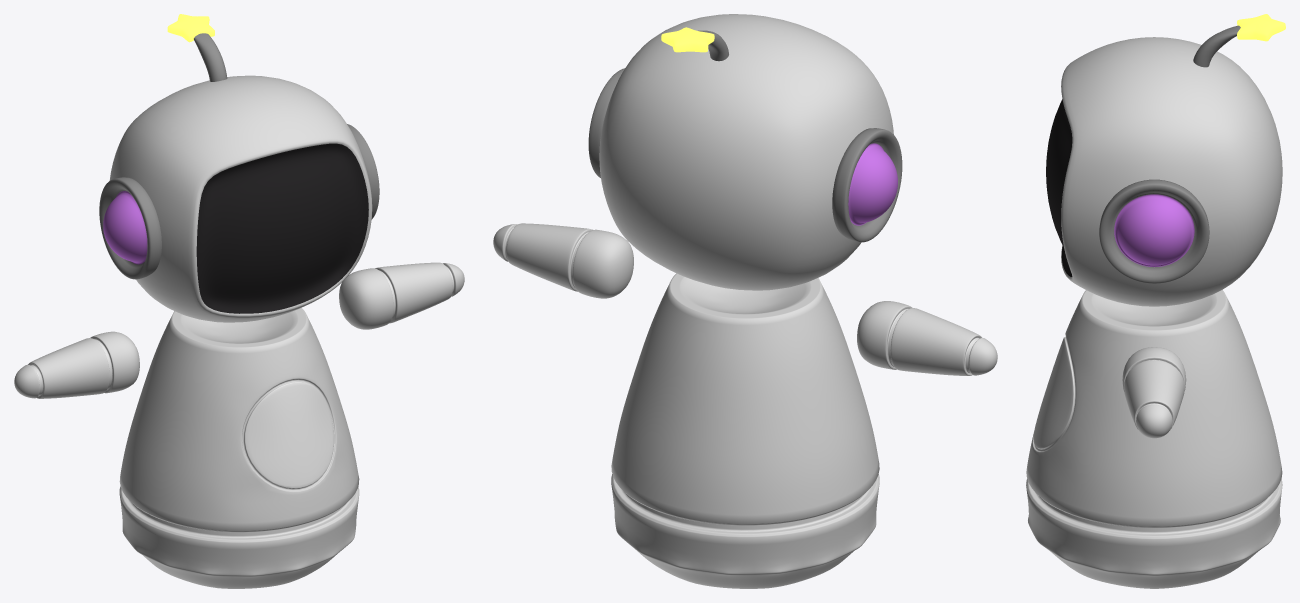
File: Roboter_cute_1.fbx
3 renders of one model, left to right at view 1: azimuth 30°, elevation 25°; view 2: azimuth 150°, elevation 25°; view 3: azimuth 270°, elevation 25°, orthographic. The views are drawn at different scales.
Visible parts, largest first — view 1: Körper, Kopf, Arm, Ohren, Atenne, Strar; view 2: Körper, Kopf, Arm, Ohren, Strar; view 3: Körper, Kopf, Ohren, Arm, Strar, Atenne.
Boxes of the visible parts, x1,y1,x2,y2 form: Körper: (119, 308, 359, 588); Kopf: (109, 75, 372, 322); Arm: (14, 262, 464, 398); Ohren: (99, 124, 379, 279); Atenne: (194, 33, 227, 81); Strar: (167, 14, 214, 42); Körper: (611, 273, 879, 588); Kopf: (599, 14, 893, 290); Arm: (493, 223, 997, 375); Ohren: (588, 68, 902, 242); Strar: (661, 27, 714, 52); Körper: (1026, 290, 1282, 588); Kopf: (1046, 37, 1282, 306); Ohren: (1099, 179, 1209, 283); Arm: (1122, 347, 1186, 438); Strar: (1237, 14, 1285, 41); Atenne: (1193, 25, 1240, 67).
Size of the model in its own units: 281 by 304 by 132.
